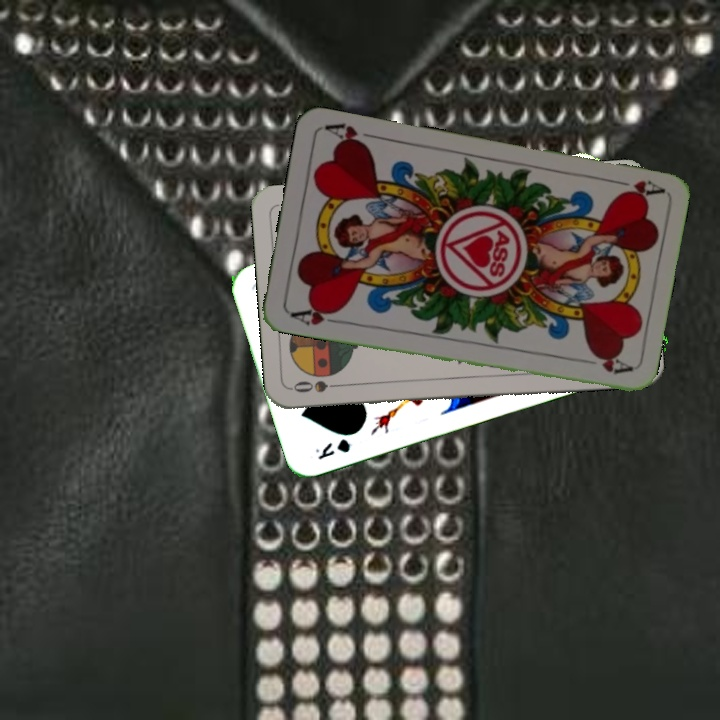GK: (311, 434, 353, 463)
HA: (606, 174, 665, 203), (286, 301, 345, 328)
SO: (289, 376, 348, 396)
